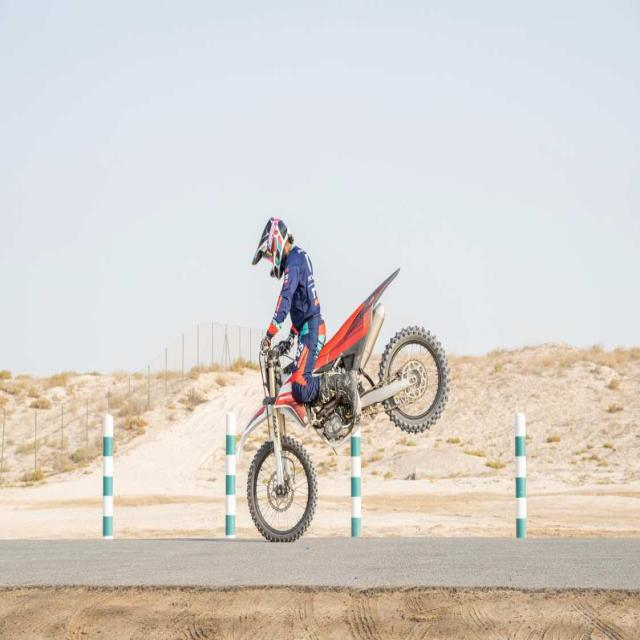Bike: (246, 268, 451, 542)
